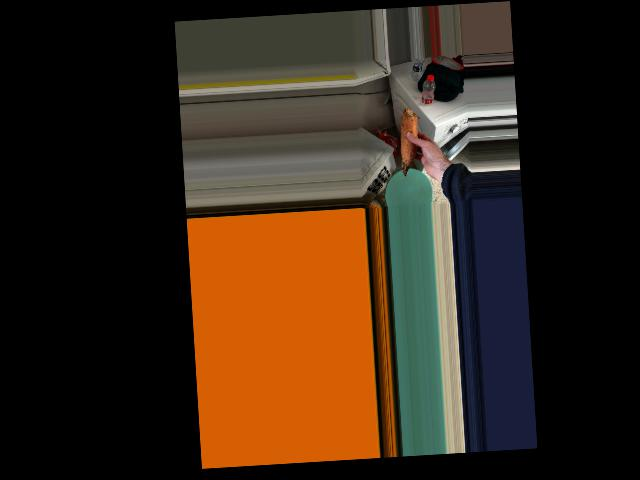sweet_potato: (396, 105, 425, 177)
